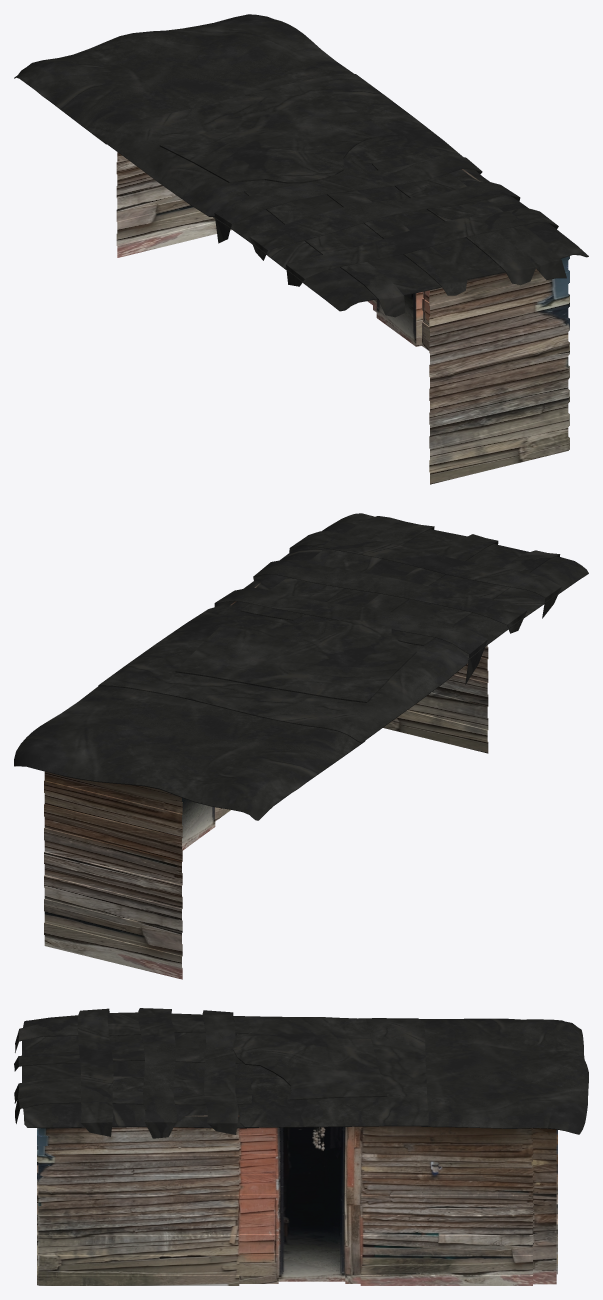
File: casaplano01.fbx
The picture shows the model from 3 angles, top to bottom: view 1: azimuth 30°, elevation 25°; view 2: azimuth 150°, elevation 25°; view 3: azimuth 270°, elevation 25°; orthographic projection. The views are drawn at different scales.
Parts seen in each view (by area): view 1: Techo 01, Casaplano01; view 2: Techo 01, Casaplano01; view 3: Casaplano01, Techo 01.
Part boxes in pixels (x1,y1,x2,y2): Techo 01: (14,14,588,317); Casaplano01: (116,152,569,484); Techo 01: (14,513,588,820); Casaplano01: (44,583,488,979); Casaplano01: (37,1115,557,1285); Techo 01: (14,1008,588,1138).
Size of the model in its own units: 396 by 315 by 892.
2 materials, 2 textured.
